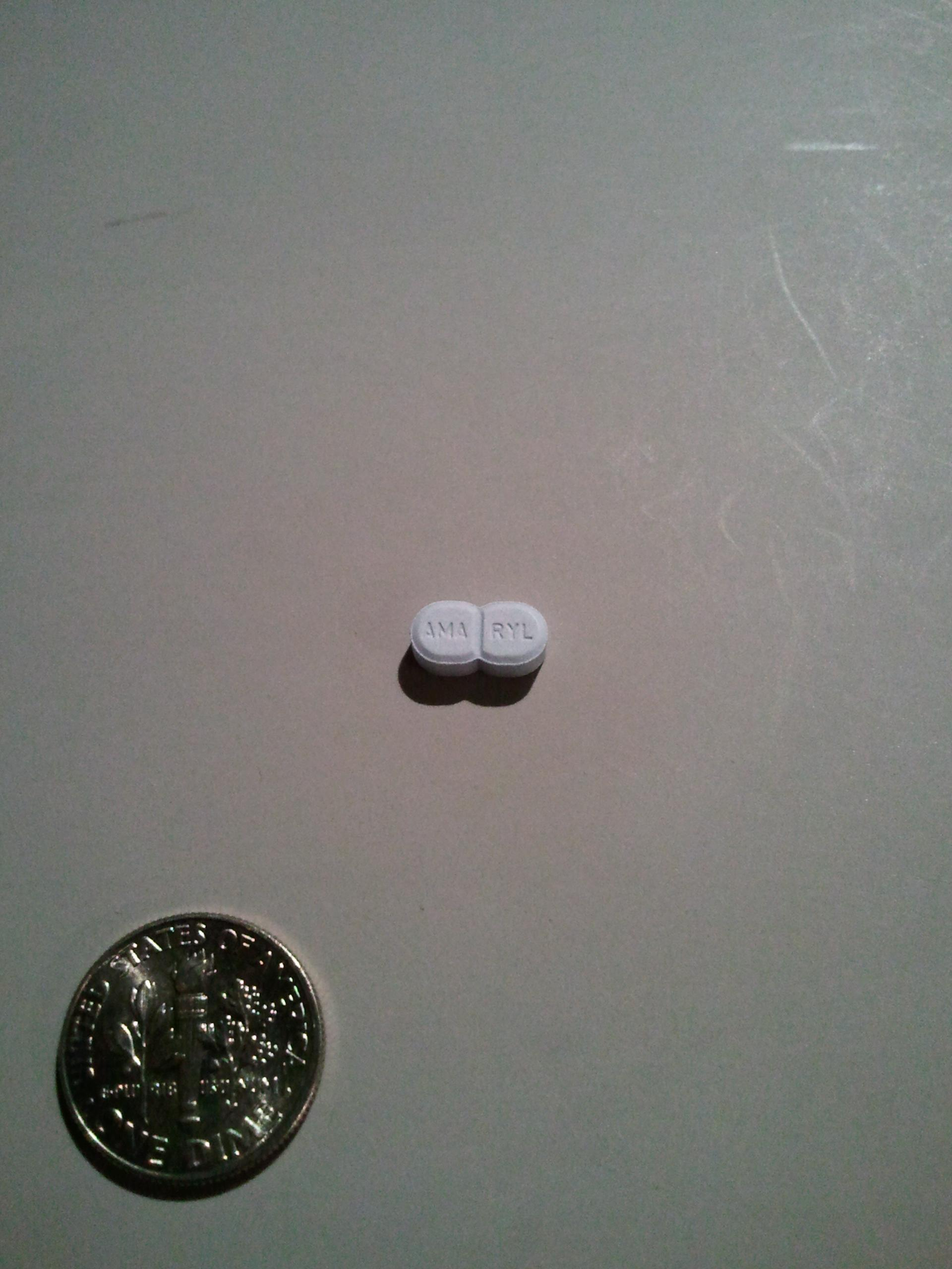Pill: (387, 587, 566, 709)
